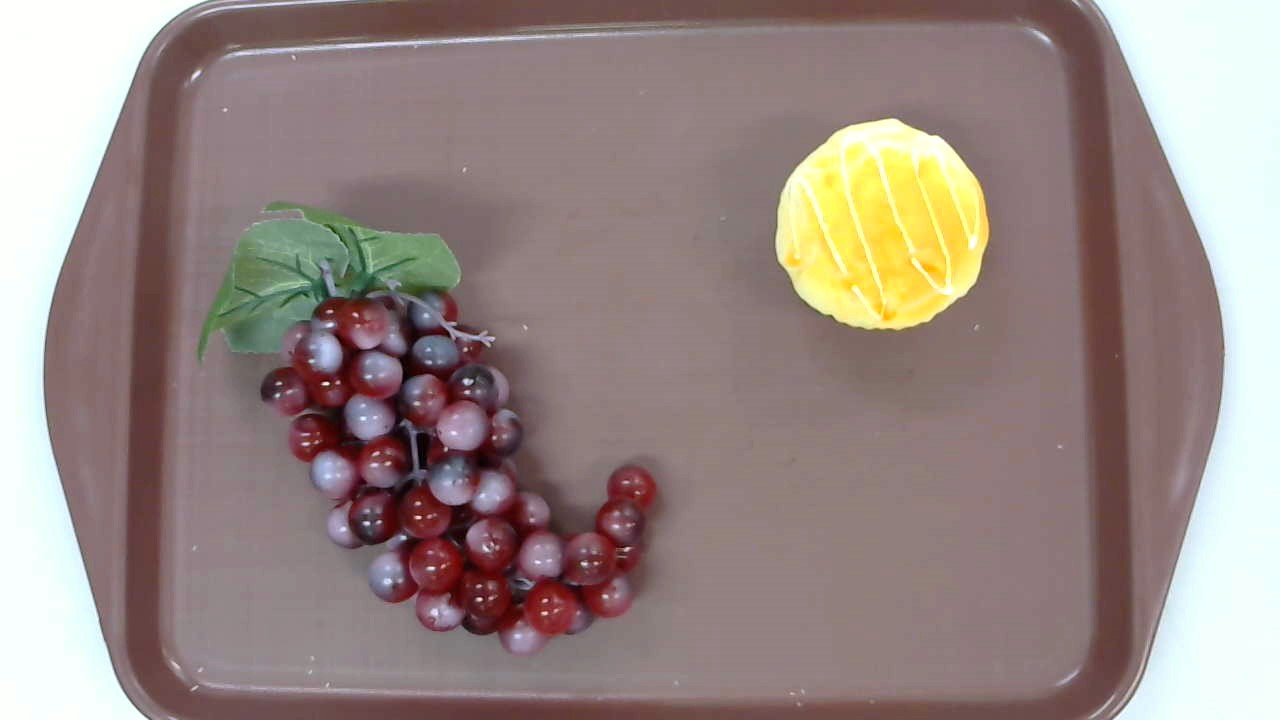cupcake: (773, 118, 991, 331)
grape: (198, 203, 658, 655)
